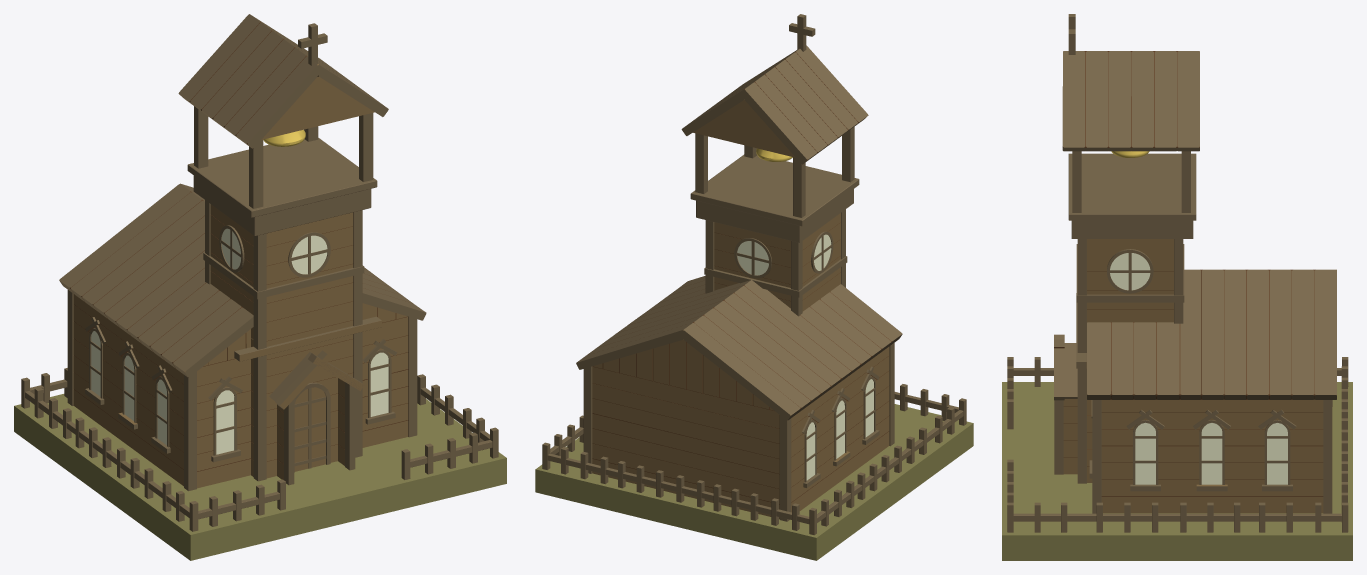
File: wild west tower.fbx
3 renders of one model, left to right at view 1: azimuth 30°, elevation 25°; view 2: azimuth 150°, elevation 25°; view 3: azimuth 270°, elevation 25°, orthographic. The views are drawn at different scales.
Parts seen in each view (by area): view 1: tower; view 2: tower; view 3: tower.
Boxes of the visible parts, bbox=[...] form: tower: bbox=[14, 14, 506, 560]; tower: bbox=[535, 14, 973, 560]; tower: bbox=[1002, 14, 1352, 560].
Size of the model in its own units: 334 by 476 by 323.
